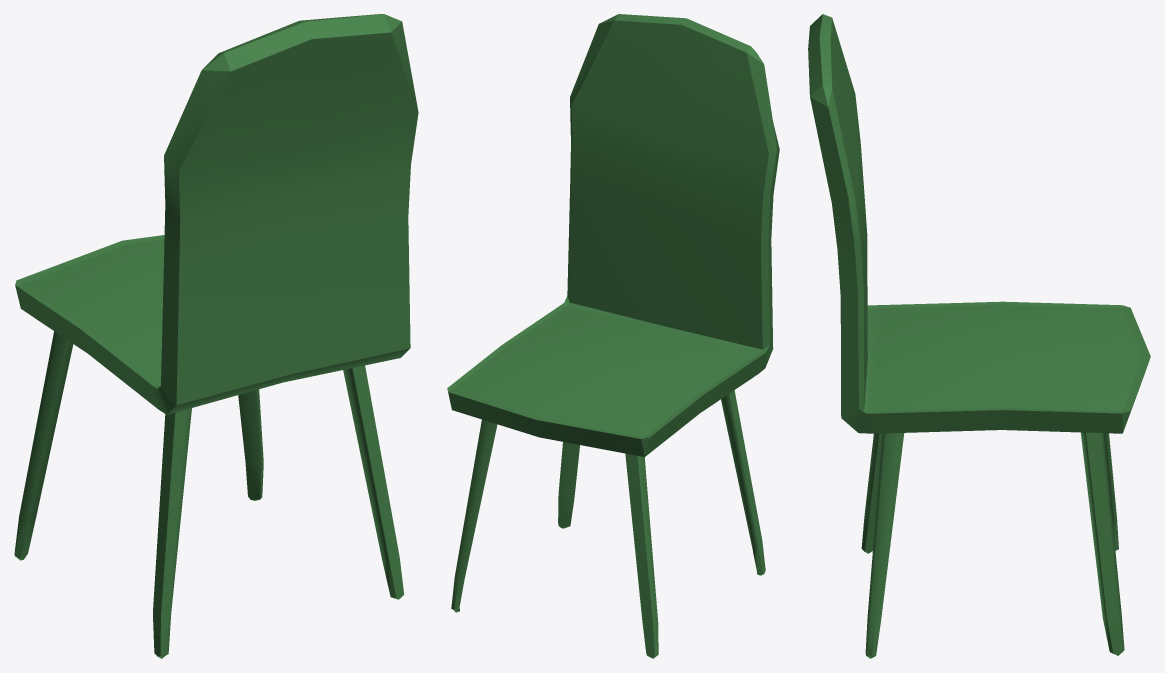
Rendered from chair.fbx.
3 renders of one model, left to right at view 1: azimuth 30°, elevation 25°; view 2: azimuth 150°, elevation 25°; view 3: azimuth 270°, elevation 25°, orthographic. The views are drawn at different scales.
Parts seen in each view (by area): view 1: polySurface622; view 2: polySurface622; view 3: polySurface622.
Boxes of the visible parts, left/top/right/bottom form: polySurface622: left=14, top=14, right=418, bottom=658; polySurface622: left=447, top=14, right=779, bottom=658; polySurface622: left=808, top=14, right=1150, bottom=658.
Bounding box in the file's own units: 4.07 × 9.57 × 5.23.
